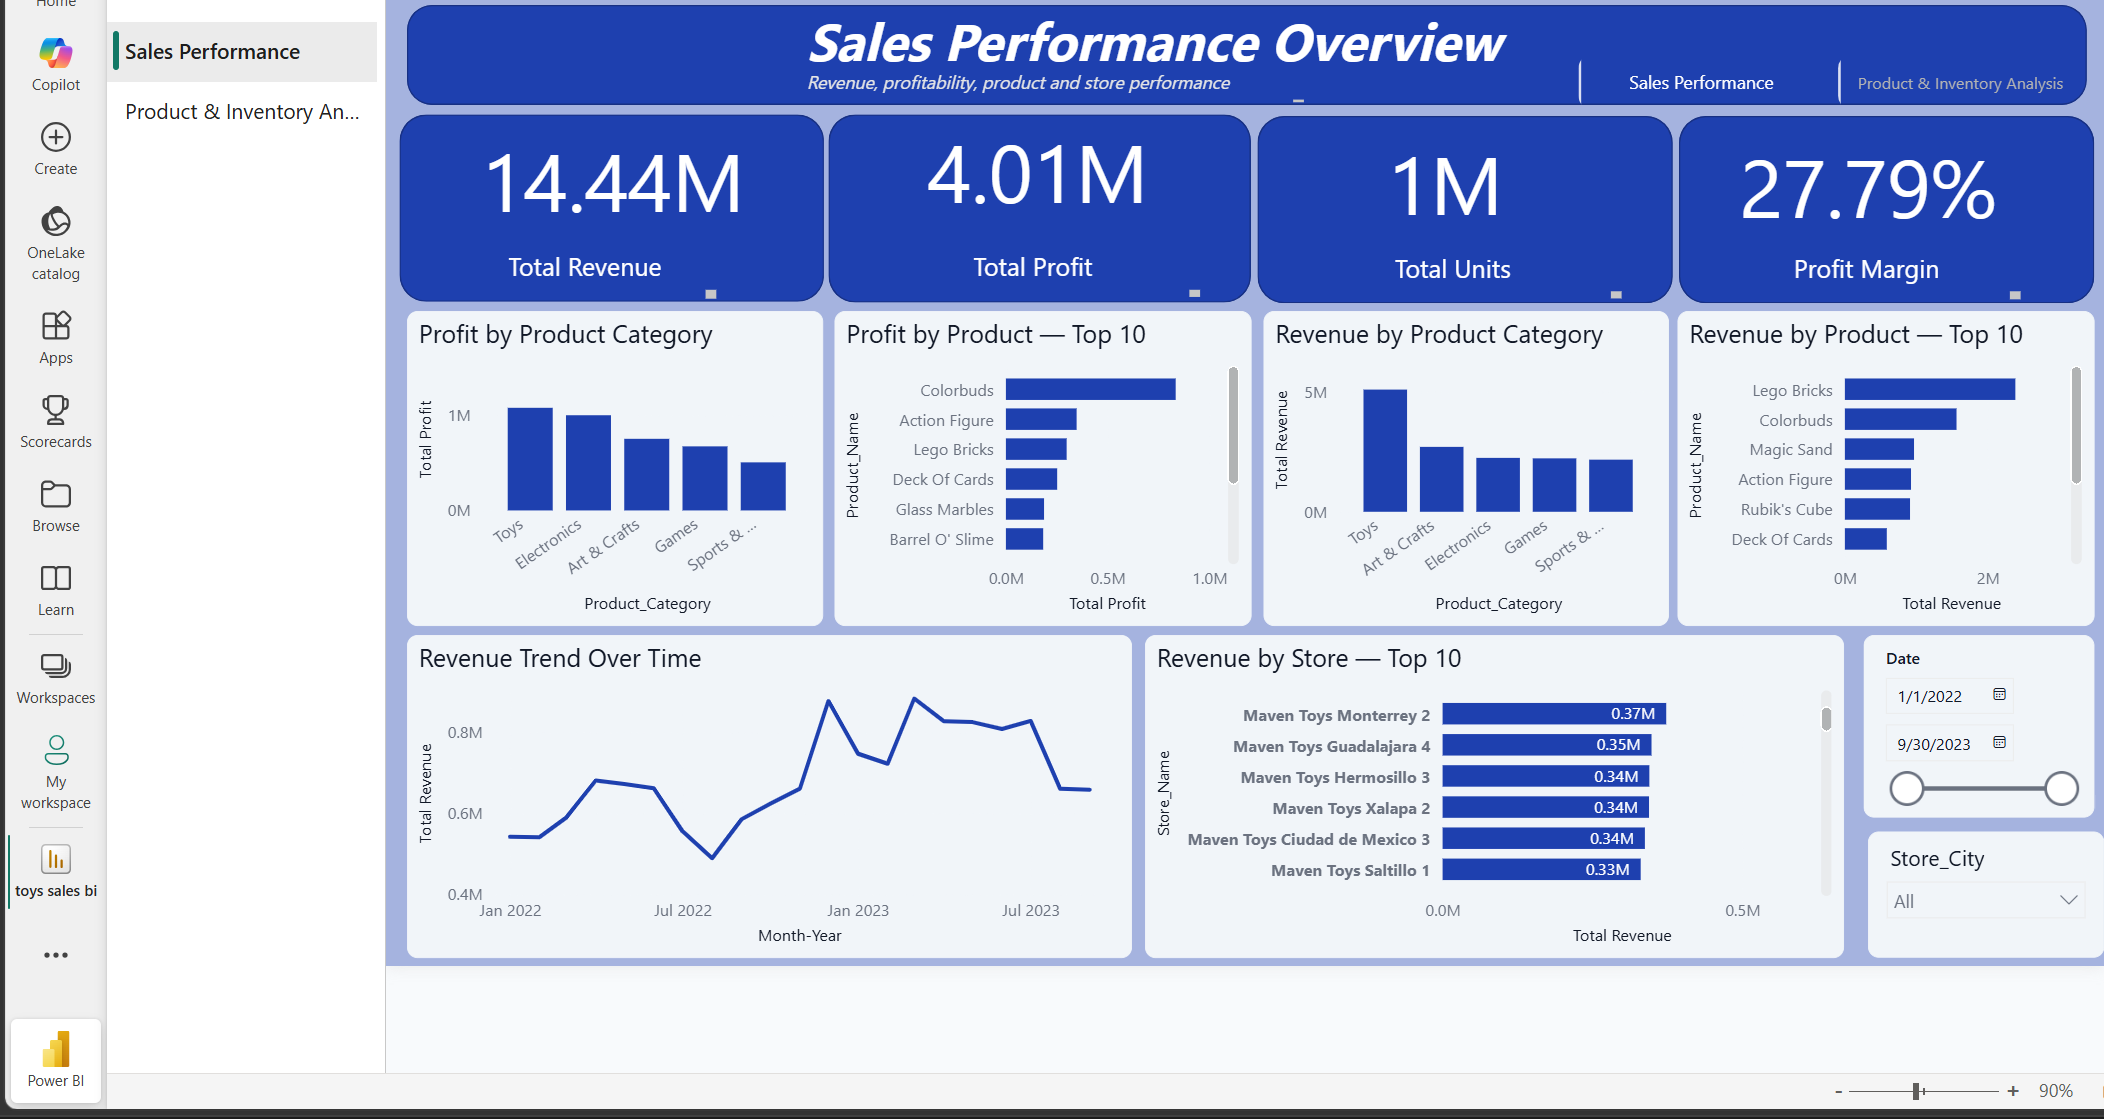

The dashboard page shown, as its layout file describes it:
{"tool":"powerbi","page":{"name":"Sales Performance","canvas":[1280,720],"ordinal":0},"visuals":[{"type":"shape","box":[10.1,86.2,316.3,139.5],"z":0},{"type":"shape","box":[649.7,87.4,309.3,139.5],"z":1000},{"type":"shape","box":[963.6,87.4,309.3,139.5],"z":2000},{"type":"shape","box":[329.5,86.2,314.6,140.1],"z":3000},{"type":"cardVisual","title":"Total Revenue","fields":{"Data":["Table.Total Revenue"]},"box":[53.8,78.6,280.2,113.4],"z":4000},{"type":"cardVisual","title":"Total Units","fields":{"Data":["Table.Total Units"]},"box":[728.7,75.1,216.8,119],"z":5000},{"type":"cardVisual","title":"Profit Margin","fields":{"Data":["Table.Profit Margin"]},"box":[991,75.3,281.3,120.1],"z":6000},{"type":"cardVisual","fields":{"Data":["Table.Total Profit"]},"box":[386.2,86.2,263.5,98.9],"z":7000},{"type":"columnChart","title":"Revenue by Product Category","fields":{"Y":["Table.Total Revenue"],"Category":["products.Product_Category"]},"box":[653.2,232.7,302.3,234.9],"z":8000},{"type":"columnChart","title":"Profit by Product Category","fields":{"Category":["products.Product_Category"],"Y":["Table.Total Profit"]},"box":[15.9,232.7,310,234.9],"z":9000},{"type":"clusteredBarChart","title":"Revenue by Product — Top 10","fields":{"Category":["products.Product_Name"],"Y":["Table.Total Revenue"]},"box":[962.5,232.7,310.5,234.9],"z":10000},{"type":"clusteredBarChart","title":"Profit by Product — Top 10","fields":{"Category":["products.Product_Name"],"Y":["Table.Total Profit"]},"box":[333.8,232.7,310.5,234.9],"z":11000},{"type":"clusteredBarChart","title":"Revenue by Store — Top 10","fields":{"Category":["stores.Store_Name"],"Y":["Table.Total Revenue"]},"box":[565.1,473.3,520.9,240.7],"z":12000},{"type":"lineChart","title":"Revenue Trend Over Time","fields":{"Y":["Table.Total Revenue"],"Category":["calendar.Date.Variation.Date Hierarchy.Year","calendar.Date.Variation.Date Hierarchy.Month"]},"box":[15.3,473.6,539.8,240.6],"z":13000},{"type":"slicer","fields":{"Values":["calendar.Date"]},"box":[1100,473.3,172.1,136],"z":14000},{"type":"slicer","fields":{"Values":["stores.Store_City"]},"box":[1097.9,620.5,175.6,93.6],"z":15000},{"type":"shape","box":[15.1,4.6,1251.2,74.4],"z":16000},{"type":"textbox","title":"Sales Performance Overview","box":[308.1,4.6,664,59.3],"z":17000},{"type":"textbox","box":[308.1,46.5,380.2,34.9],"z":18000},{"type":"textbox","title":"Total Revenue","box":[85.7,186.6,165.1,41.9],"z":19000},{"type":"textbox","title":"Total Profit","box":[432.9,186.3,179,40],"z":20000},{"type":"textbox","title":"Total Units","box":[746.4,187.4,179,40],"z":21000},{"type":"textbox","title":"Profit Margin","box":[1043.8,187.2,179.1,40.7],"z":22000},{"type":"pageNavigator","box":[888.3,41.3,378,41.1],"z":23000}]}

Visuals, with their boxes on the page's 1280x720 design canvas (x1, y1, x2, y2). These are canvas units, not pixel positions in the 2104x1119 screenshot, which may show the page scaled, cropped or inside an application window:
shape: bbox(10, 86, 326, 226)
shape: bbox(650, 87, 959, 227)
shape: bbox(964, 87, 1273, 227)
shape: bbox(330, 86, 644, 226)
"Total Revenue" cardVisual: bbox(54, 79, 334, 192)
"Total Units" cardVisual: bbox(729, 75, 946, 194)
"Profit Margin" cardVisual: bbox(991, 75, 1272, 195)
cardVisual - Table.Total Profit: bbox(386, 86, 650, 185)
"Revenue by Product Category" columnChart: bbox(653, 233, 956, 468)
"Profit by Product Category" columnChart: bbox(16, 233, 326, 468)
"Revenue by Product — Top 10" clusteredBarChart: bbox(962, 233, 1273, 468)
"Profit by Product — Top 10" clusteredBarChart: bbox(334, 233, 644, 468)
"Revenue by Store — Top 10" clusteredBarChart: bbox(565, 473, 1086, 714)
"Revenue Trend Over Time" lineChart: bbox(15, 474, 555, 714)
slicer - calendar.Date: bbox(1100, 473, 1272, 609)
slicer - stores.Store_City: bbox(1098, 620, 1274, 714)
shape: bbox(15, 5, 1266, 79)
"Sales Performance Overview" textbox: bbox(308, 5, 972, 64)
textbox: bbox(308, 46, 688, 81)
"Total Revenue" textbox: bbox(86, 187, 251, 228)
"Total Profit" textbox: bbox(433, 186, 612, 226)
"Total Units" textbox: bbox(746, 187, 925, 227)
"Profit Margin" textbox: bbox(1044, 187, 1223, 228)
pageNavigator: bbox(888, 41, 1266, 82)
